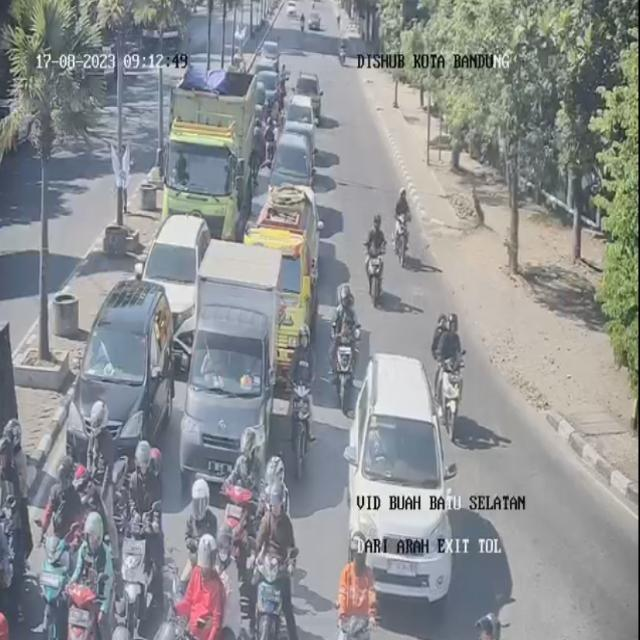bunch of motorcycle: (0, 439, 304, 640)
cars: (345, 353, 461, 601), (181, 239, 282, 486), (67, 279, 174, 461), (244, 184, 323, 369), (134, 214, 211, 380), (270, 121, 316, 194)
motorcycle: (164, 518, 233, 640), (118, 439, 164, 618), (250, 455, 296, 621), (427, 305, 474, 450), (42, 455, 82, 614), (63, 502, 107, 640), (287, 314, 318, 461), (0, 422, 28, 582), (330, 279, 360, 422), (178, 468, 214, 574), (341, 530, 376, 638), (362, 211, 389, 311), (396, 185, 413, 266)
truck: (163, 68, 255, 239)
